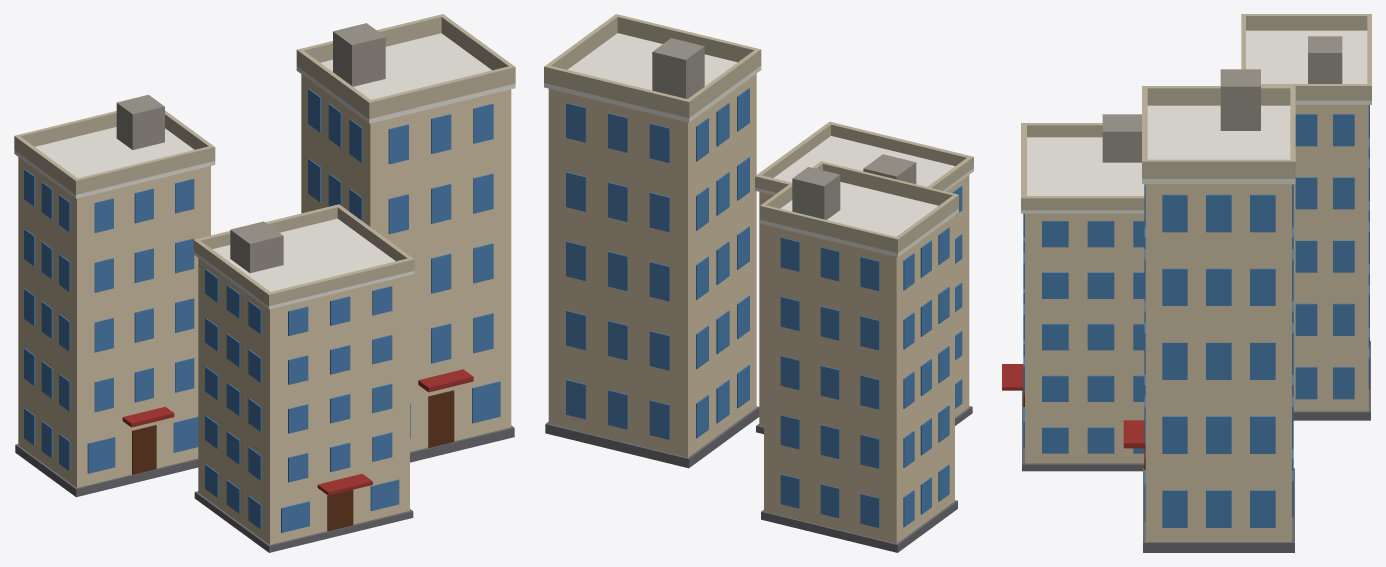
File: edificio.obj
3 views of the same model, side by side, from view 1: azimuth 30°, elevation 25°; view 2: azimuth 150°, elevation 25°; view 3: azimuth 270°, elevation 25° (orthographic). The views are drawn at different scales.
Parts seen in each view (by area): view 1: edificio5.002, edificio5.001, edificio5; view 2: edificio5, edificio5.002, edificio5.001; view 3: edificio5, edificio5.001, edificio5.002.
Part boxes in pixels (x1,y1,x2,y2): edificio5.002: [14, 94, 215, 497]; edificio5.001: [193, 204, 414, 552]; edificio5: [296, 14, 515, 462]; edificio5: [544, 14, 761, 468]; edificio5.002: [760, 161, 958, 552]; edificio5.001: [755, 121, 973, 434]; edificio5: [1123, 69, 1295, 552]; edificio5.001: [1002, 114, 1144, 471]; edificio5.002: [1241, 14, 1371, 420].
Size of the model in its own units: 25.29 by 24.35 by 19.47.
